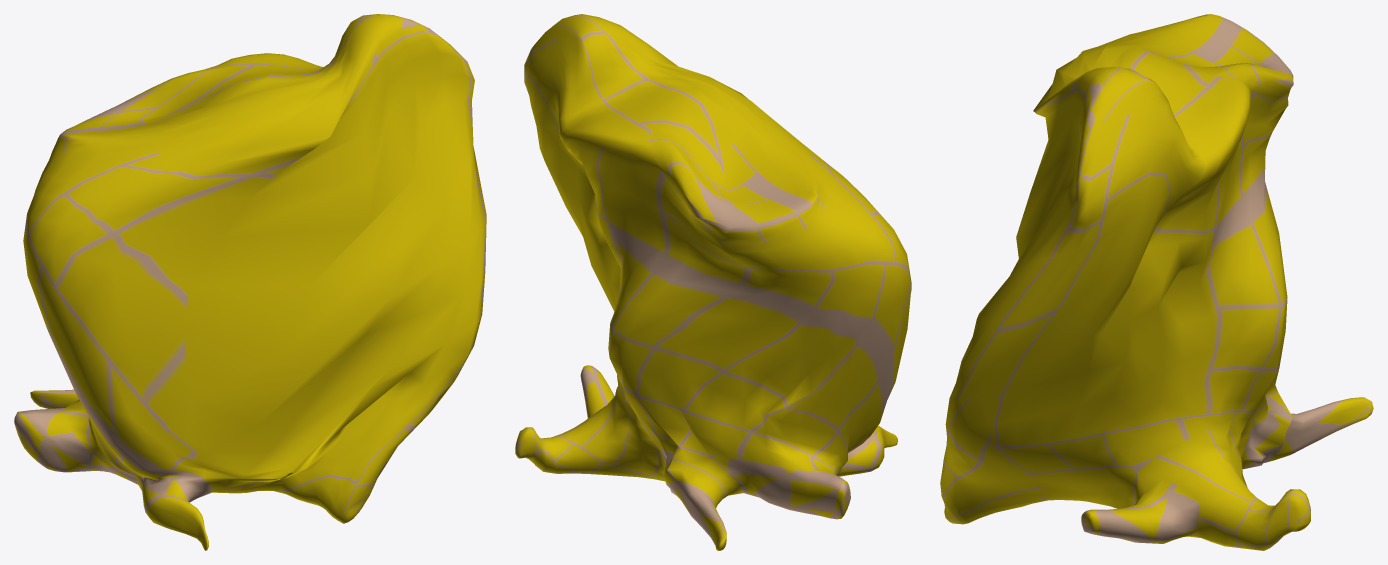
The model's file is bad_guy_2.fbx.
3 views of the same model, side by side, from view 1: azimuth 30°, elevation 25°; view 2: azimuth 150°, elevation 25°; view 3: azimuth 270°, elevation 25° (orthographic). The views are drawn at different scales.
Parts seen in each view (by area): view 1: treeStump; view 2: treeStump; view 3: treeStump.
Boxes of the visible parts, x1,y1,x2,y2 form: treeStump: (14, 14, 486, 550); treeStump: (515, 14, 911, 550); treeStump: (940, 14, 1373, 550).
Size of the model in its own units: 228 by 228 by 175.
